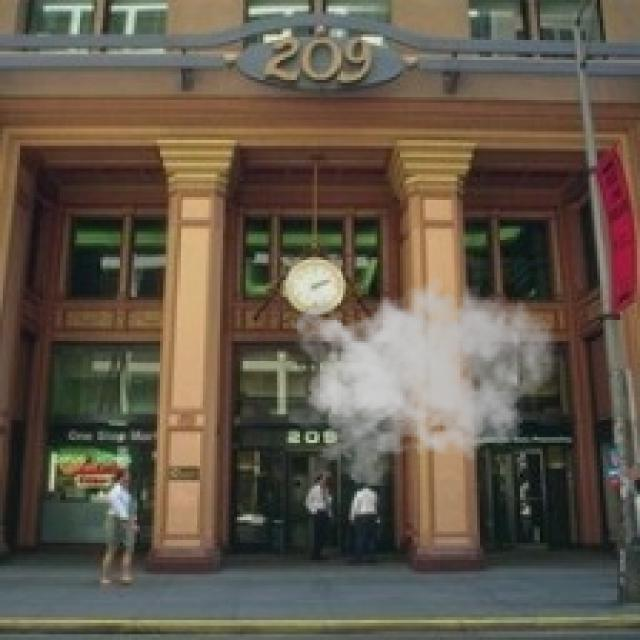smoke: (289, 263, 557, 486)
